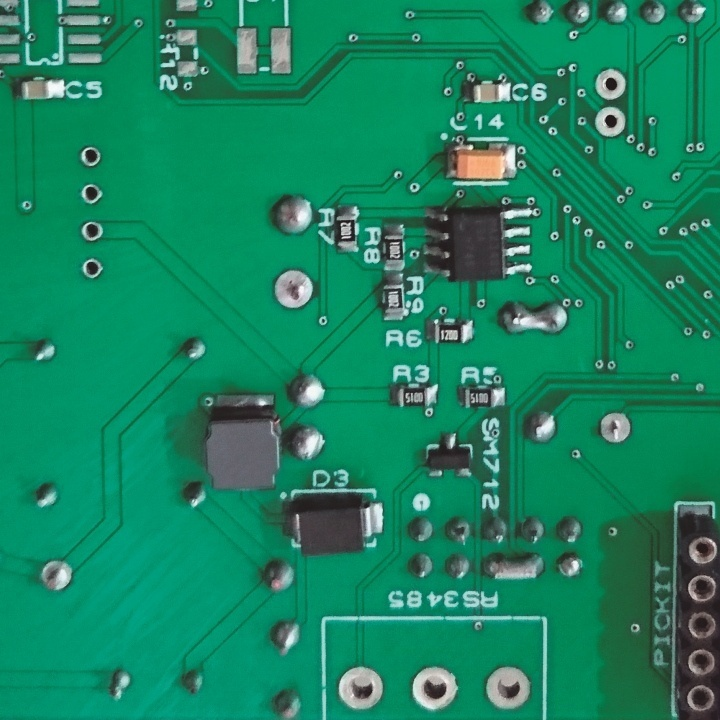F: (407, 663, 464, 715), (482, 663, 533, 714), (338, 664, 385, 717), (272, 266, 316, 312), (36, 558, 76, 597), (590, 66, 629, 102), (593, 103, 627, 142), (598, 410, 633, 447), (79, 255, 107, 283), (75, 144, 104, 171), (79, 217, 105, 246), (78, 179, 103, 207)
P: (499, 295, 572, 338), (481, 552, 548, 584)
